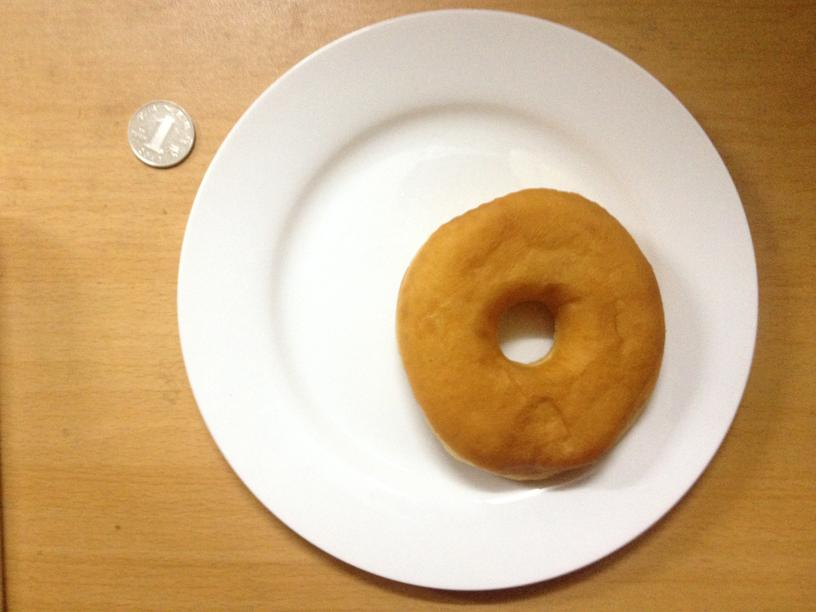coin: (124, 102, 197, 169)
doughnut: (392, 188, 664, 481)
